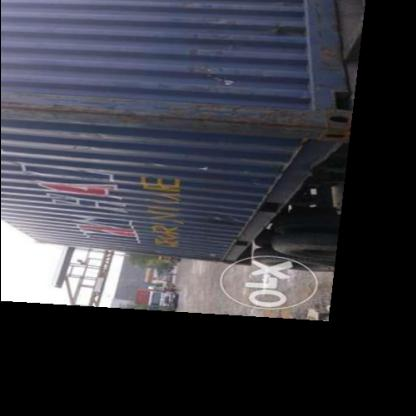Damage: (94, 96, 338, 140), (0, 92, 92, 126)
